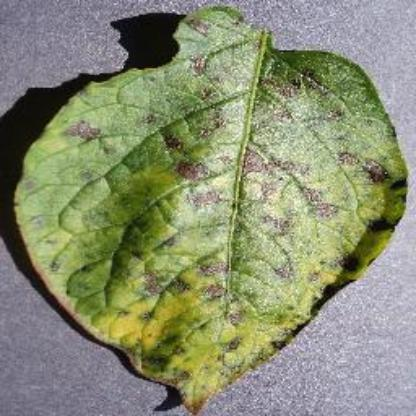Early-Blight: (12, 6, 408, 412)
